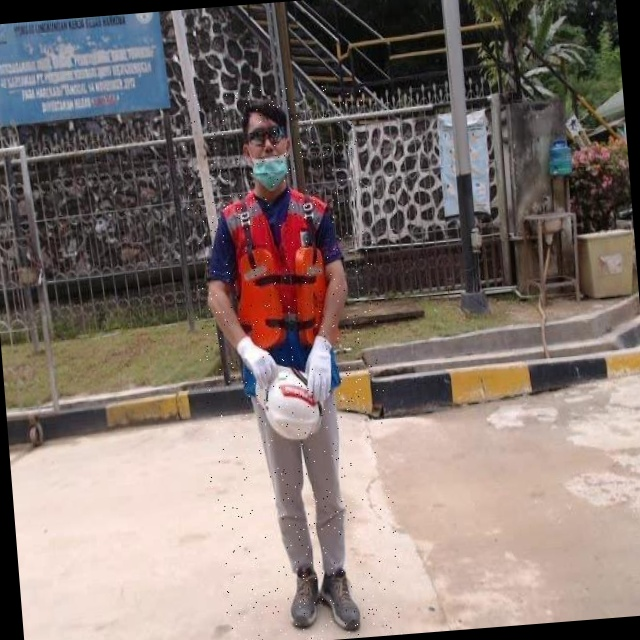gloves: (232, 318, 277, 402), (293, 327, 339, 407)
helmet: (248, 363, 319, 439)
vest: (230, 186, 338, 390)
